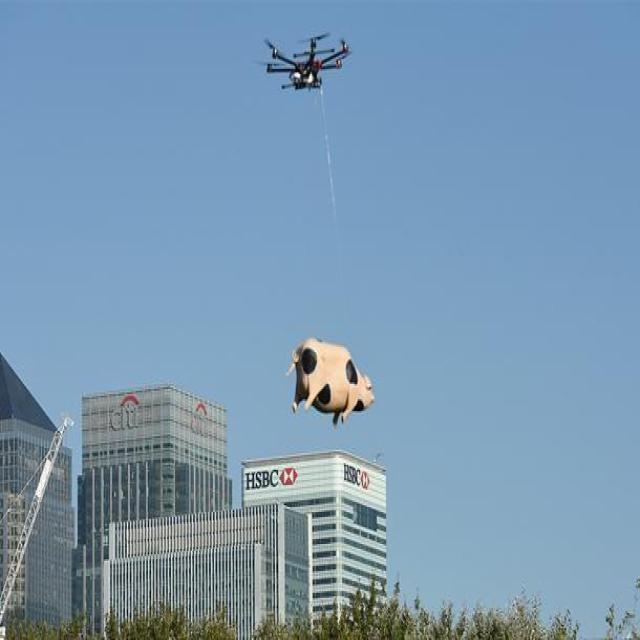drone: (255, 35, 352, 92)
